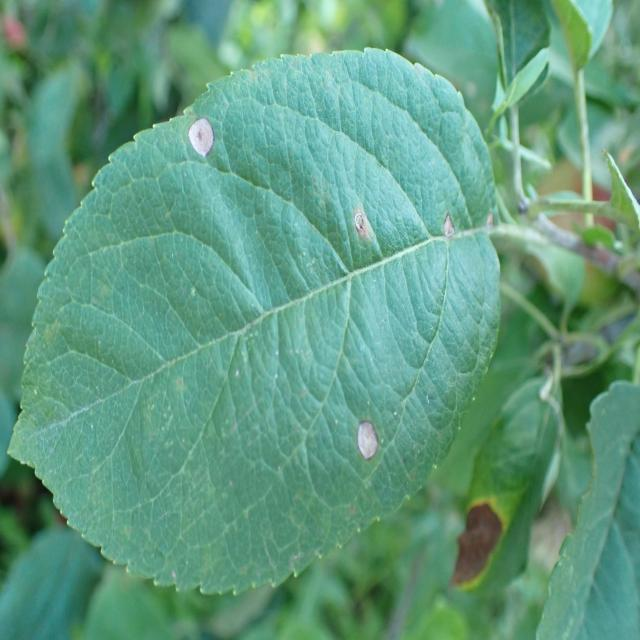diseased: (18, 49, 500, 591)
